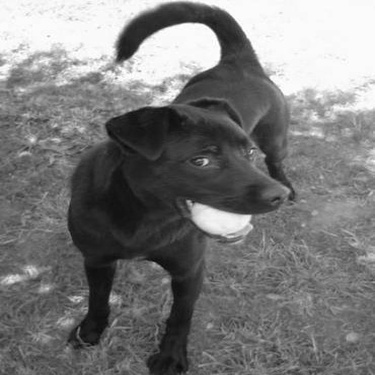dog: (60, 2, 303, 370)
